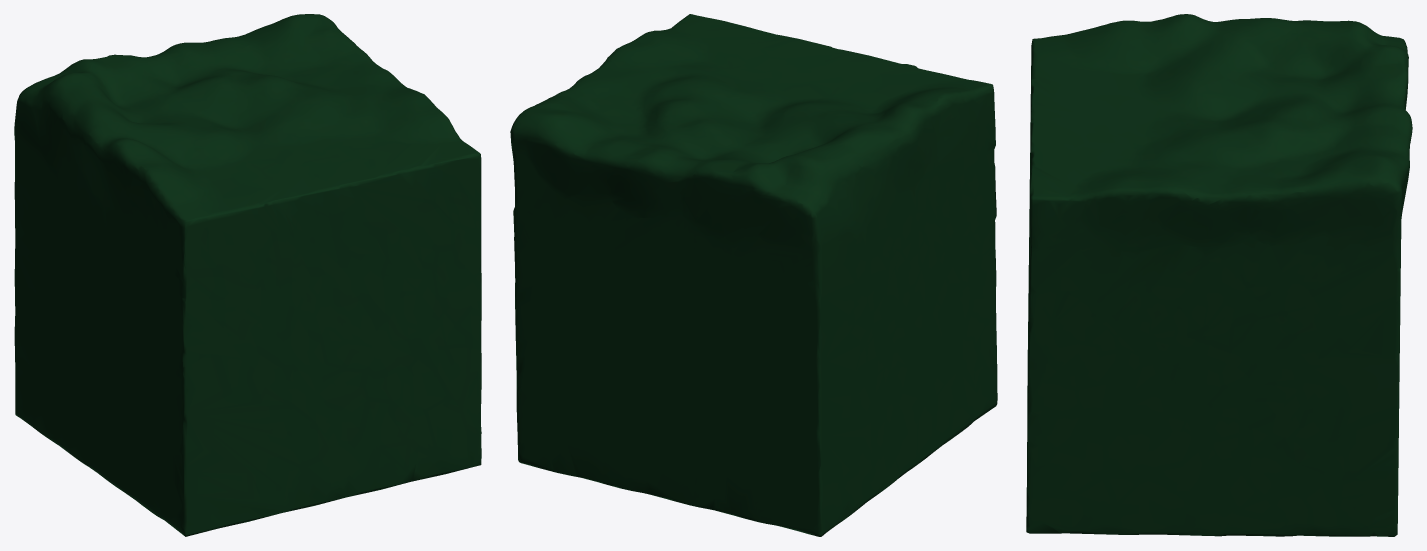
File: igftt_stage.gltf
3 renders of one model, left to right at view 1: azimuth 30°, elevation 25°; view 2: azimuth 150°, elevation 25°; view 3: azimuth 270°, elevation 25°, orthographic. The views are drawn at different scales.
Parts seen in each view (by area): view 1: Layer_1; view 2: Layer_1; view 3: Layer_1.
Part boxes in pixels (box(x1,y1,x2,y2)): Layer_1: box(14, 14, 481, 536); Layer_1: box(510, 14, 997, 536); Layer_1: box(1026, 14, 1412, 536).
Bounding box in the file's own units: 22.08 × 23.68 × 22.08.
